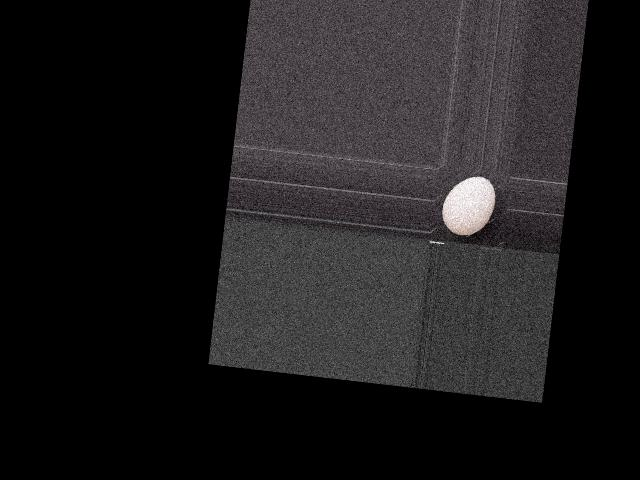egg: (440, 173, 498, 238)
